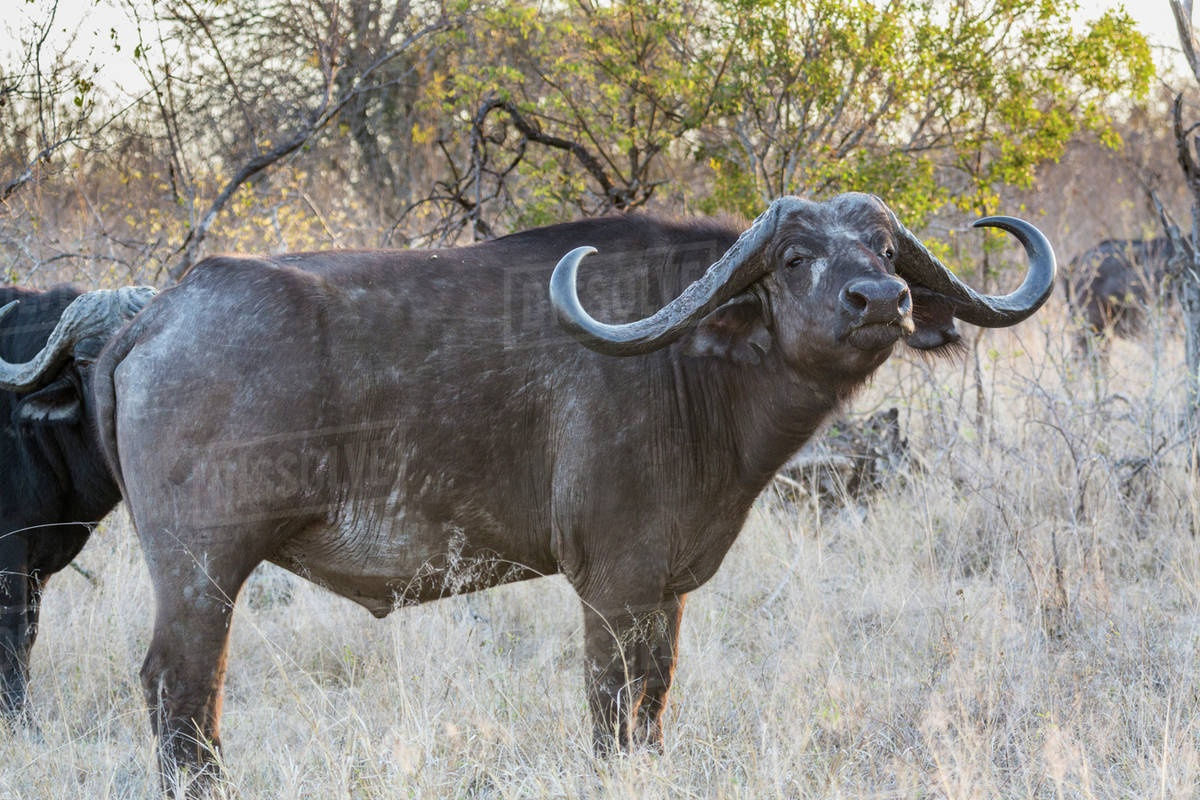buffalo: (95, 188, 1058, 800)
